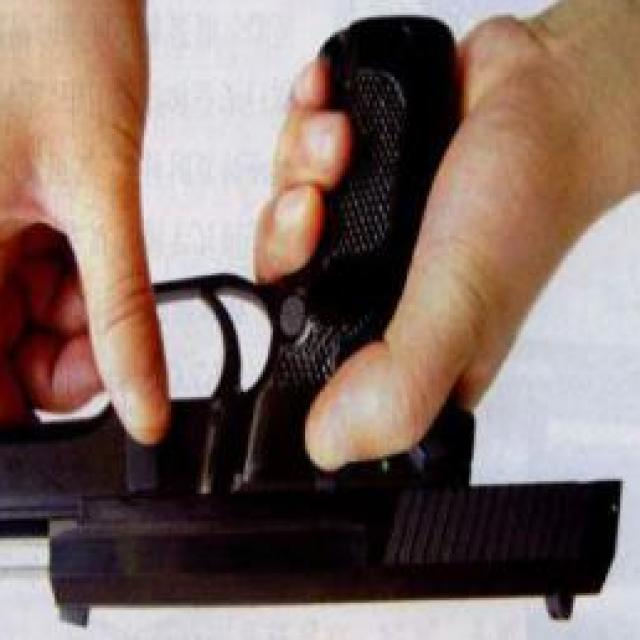pistol: (0, 0, 608, 628)
